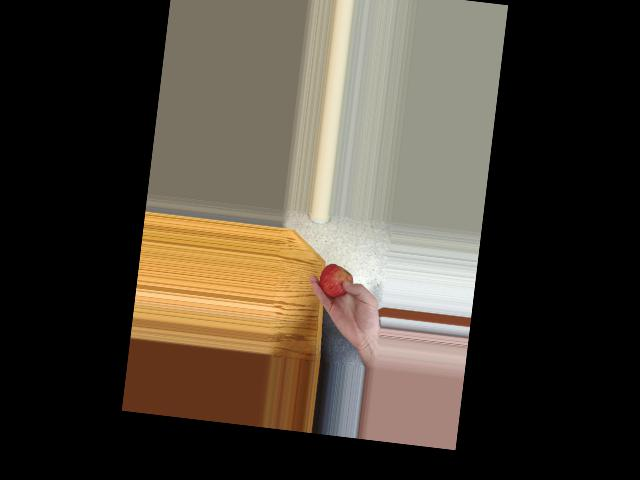apple: (317, 261, 359, 302)
